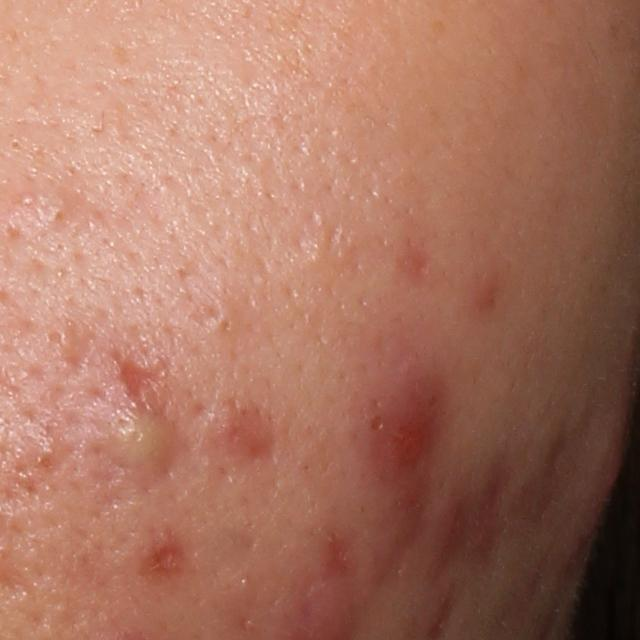atrophic_scar: (111, 345, 165, 406)
comedo: (32, 314, 80, 360), (18, 193, 35, 210), (9, 137, 21, 152)
